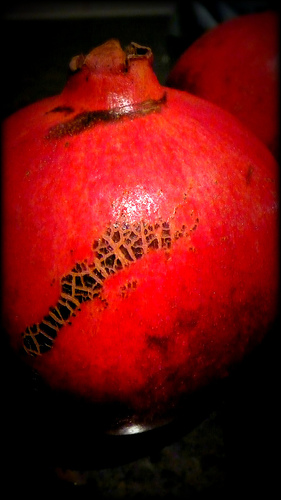pomogranate: (0, 38, 278, 392)
